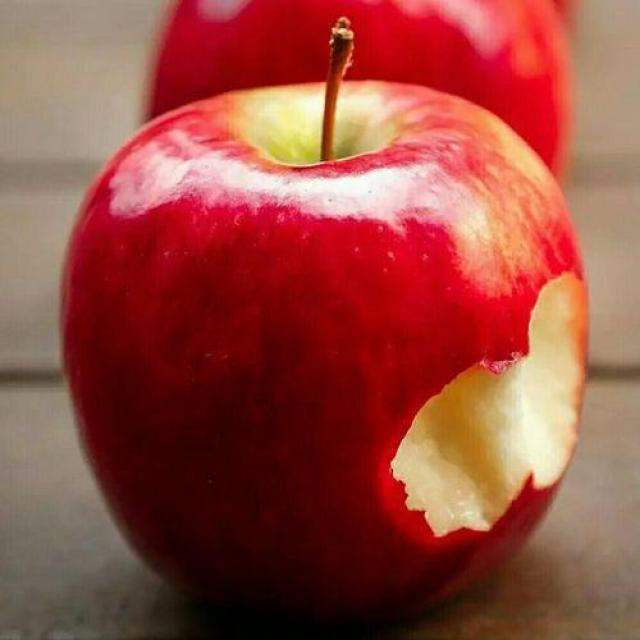rotten_apple: (52, 75, 598, 618)
